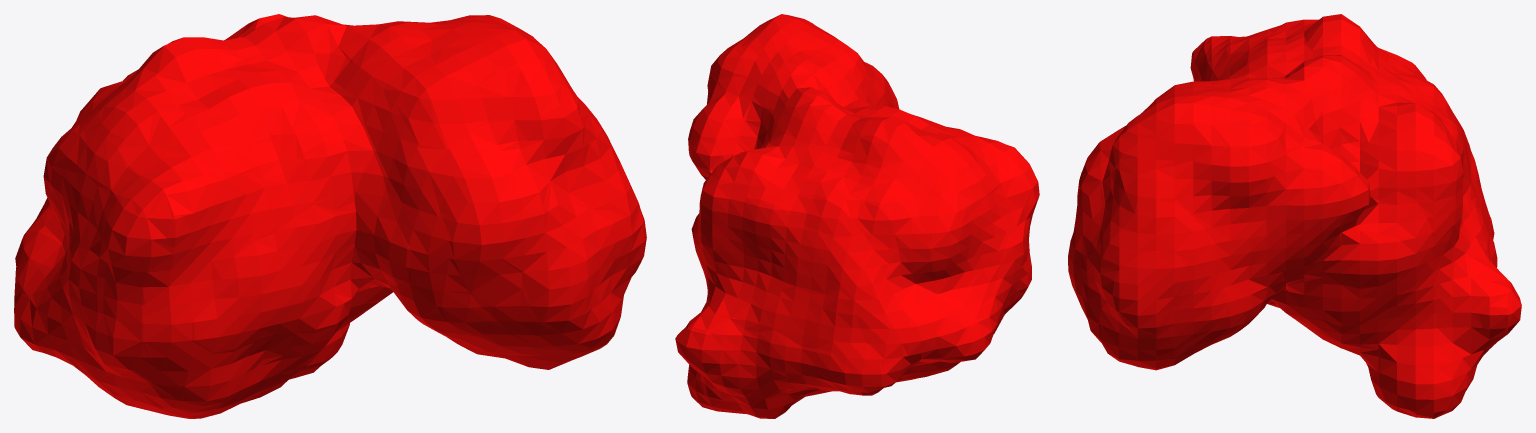
File: deoB_coarse.dae
3 views of the same model, side by side, from view 1: azimuth 30°, elevation 25°; view 2: azimuth 150°, elevation 25°; view 3: azimuth 270°, elevation 25° (orthographic). The views are drawn at different scales.
Visible parts, largest first — view 1: deoB; view 2: deoB; view 3: deoB.
Boxes of the visible parts, x1=… form: deoB: x1=14, y1=14, x2=646, y2=418; deoB: x1=675, y1=14, x2=1039, y2=418; deoB: x1=1068, y1=14, x2=1521, y2=418.
Bounding box in the file's own units: 64.42 × 52.79 × 63.47.
